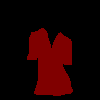polo: (26, 27, 72, 96)
